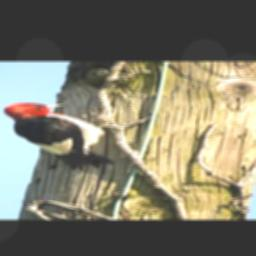Woodpecker: (0, 102, 131, 170)
